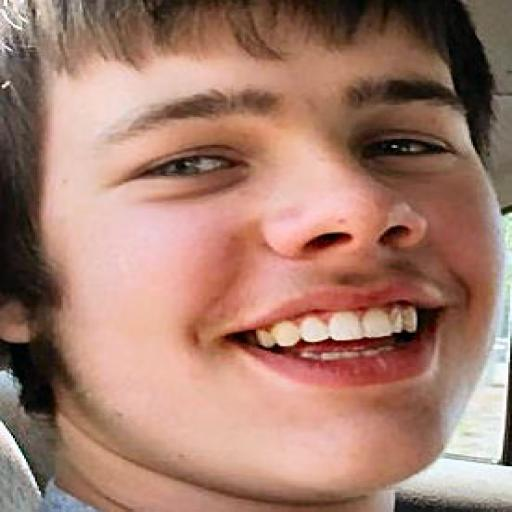Autism: (3, 5, 512, 471)
